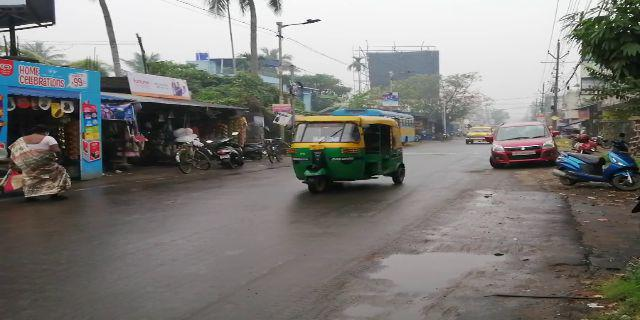Autorickshaw: (294, 112, 410, 191)
Car: (495, 120, 557, 163), (464, 122, 494, 149)
